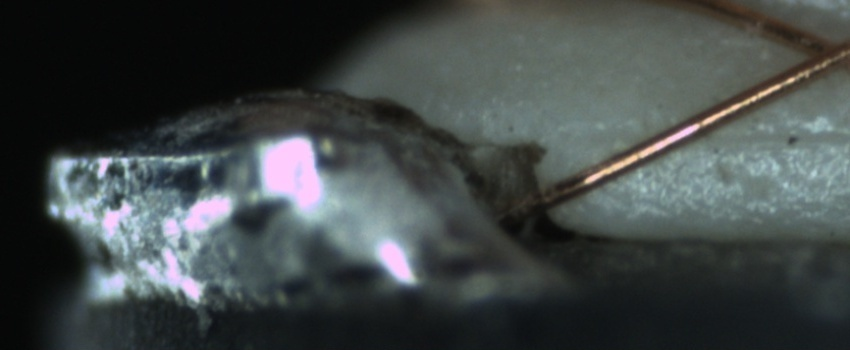CL: (773, 13, 849, 85)
DL: (610, 104, 850, 170)
